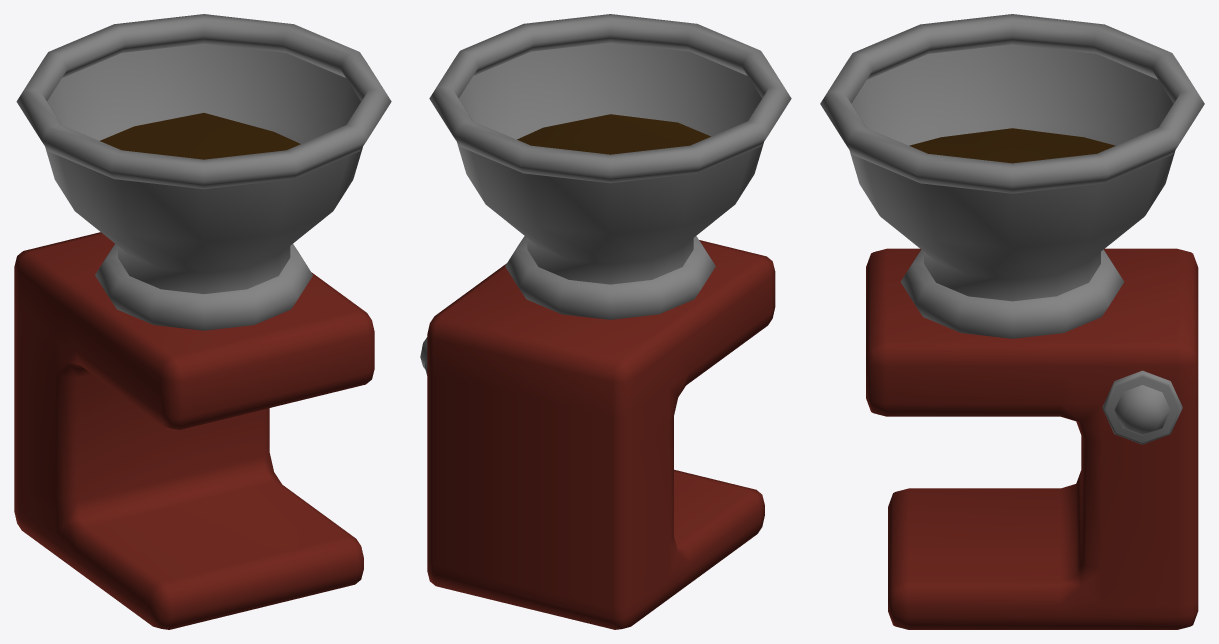
Rendered from Turret_01_B.fbx.
The picture shows the model from 3 angles, left to right: view 1: azimuth 30°, elevation 25°; view 2: azimuth 150°, elevation 25°; view 3: azimuth 270°, elevation 25°; orthographic projection. The views are drawn at different scales.
Visible parts, largest first — view 1: 01; view 2: 01; view 3: 01.
Part boxes in pixels (bbox=[...]): 01: bbox=[14, 14, 391, 629]; 01: bbox=[420, 14, 791, 629]; 01: bbox=[820, 14, 1204, 629].
Size of the model in its own units: 39.52 by 55.7 by 39.52.
2 materials, 1 textured.
